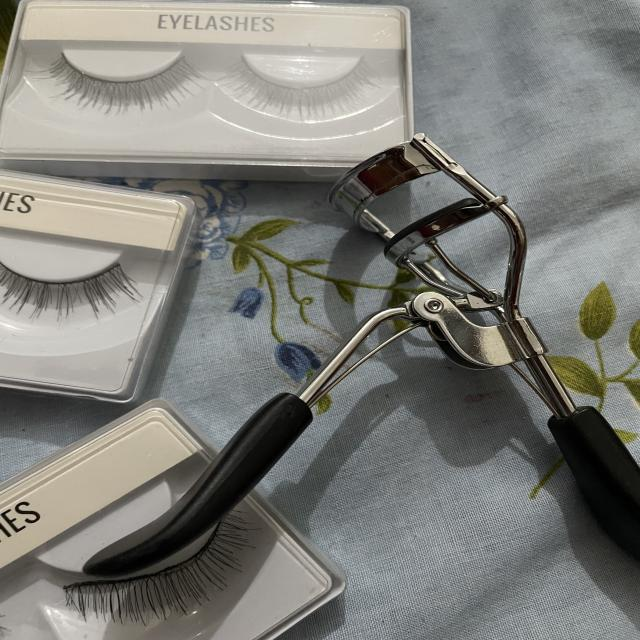eyelash curler: (64, 132, 640, 591), (18, 31, 206, 125), (221, 40, 395, 127), (0, 240, 157, 335)
